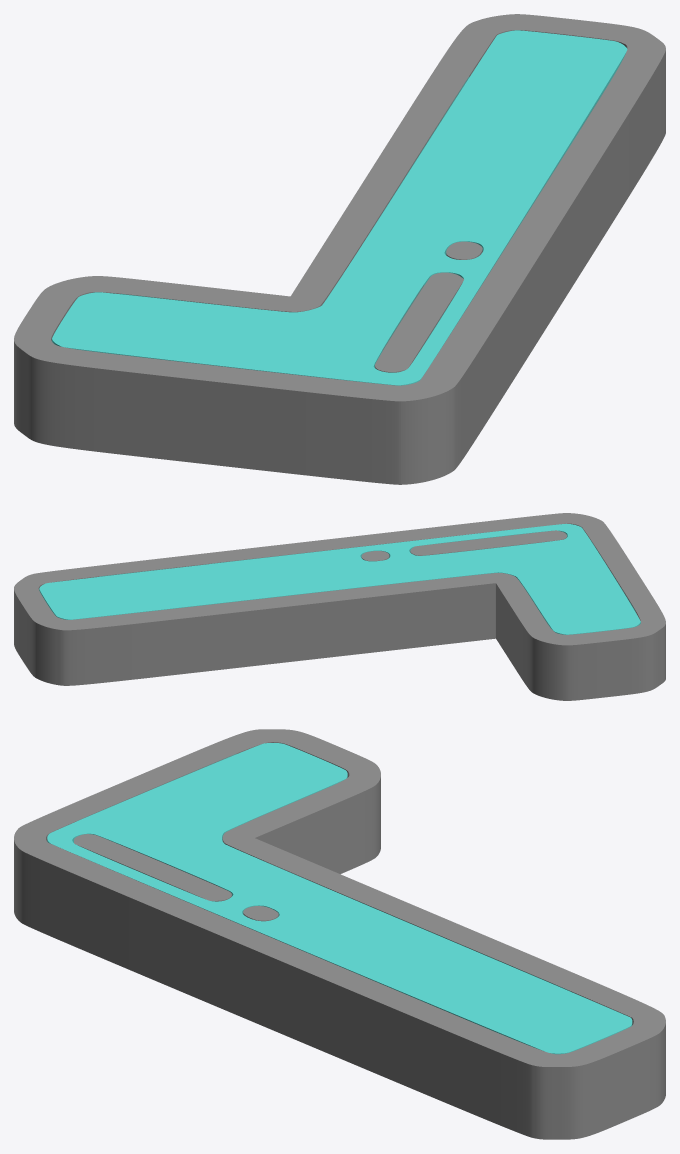
3 views of the same model, one above another, from view 1: azimuth 30°, elevation 25°; view 2: azimuth 150°, elevation 25°; view 3: azimuth 270°, elevation 25° (orthographic). The views are drawn at different scales.
Visible parts, largest first — view 1: imagetostl_mesh; view 2: imagetostl_mesh; view 3: imagetostl_mesh.
Boxes of the visible parts, x1=… form: imagetostl_mesh: x1=14, y1=14, x2=665, y2=484; imagetostl_mesh: x1=14, y1=513, x2=665, y2=700; imagetostl_mesh: x1=14, y1=729, x2=665, y2=1139.
Bounding box in the file's own units: 9981 × 1000 × 8140.
